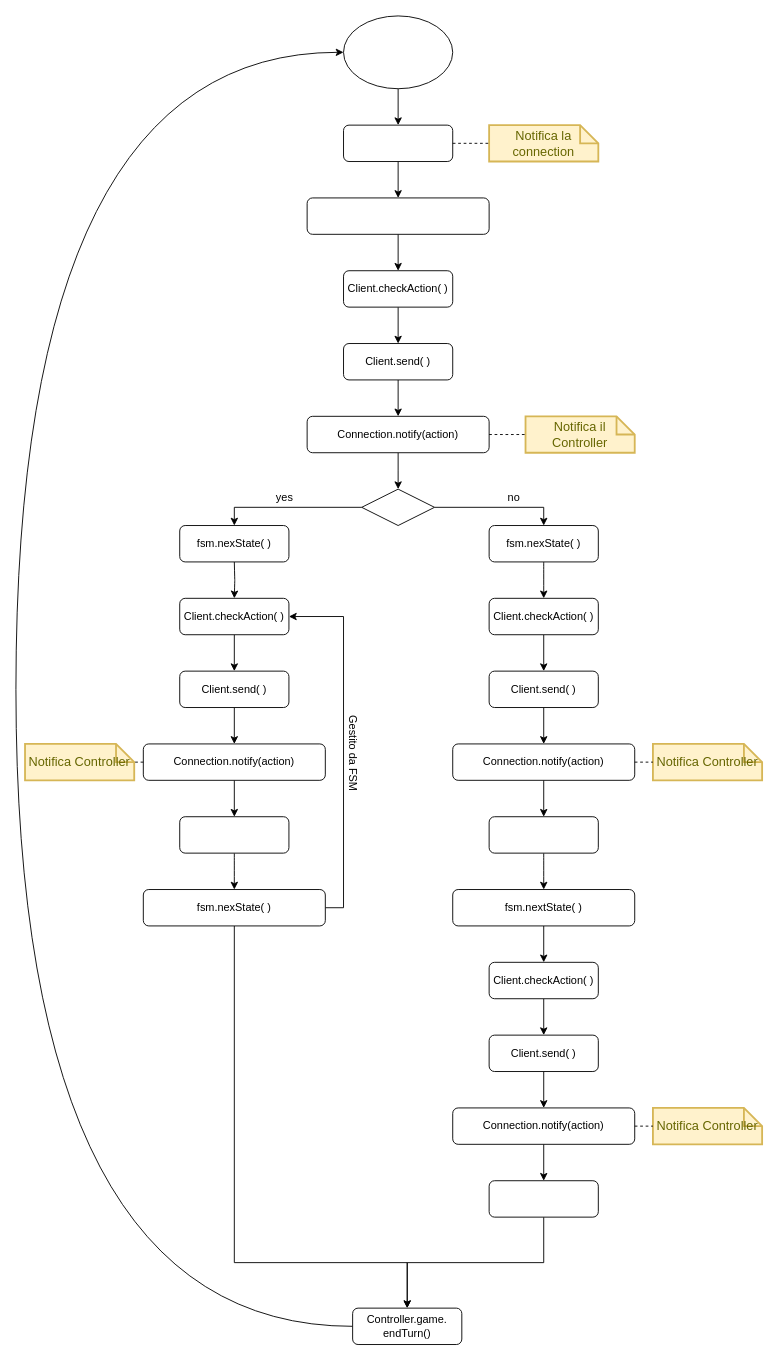
This 779x1360 diagram has some shape labels left out. Each missing label, with the centre of its shape:
"Connection.readString( )" belongs at [397,215].
"Controller.game. player.execute()" belongs at [234,834].
"Game.build()" belongs at [543,1198].
"Game.move( )" belongs at [543,834].
"Game.notify( )" belongs at [398,143].
"Start of the turn" belongs at [398,52].
"usepower" belongs at [398,507].
